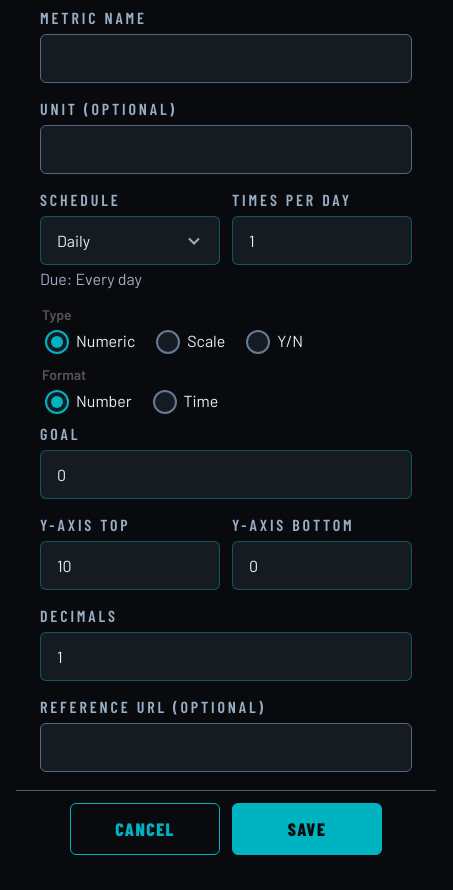
Test: CustomMetricForm — submit shape per top-level type › rejects Scale submit when level values are not unique
In the field labelled "Metric Name": (226, 58) [40,34,412,83], type "Dup"
Click the radio button labelled "Scale": (168, 342) [156,330,180,354]
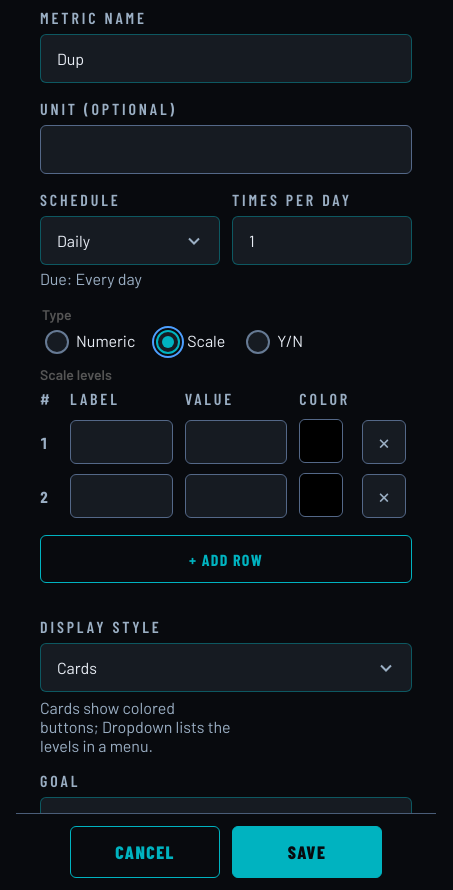
Two seeded rows are exactly right for the dup test.
In the 1st field named "label": (121, 442) [70,420,173,464], type "A"
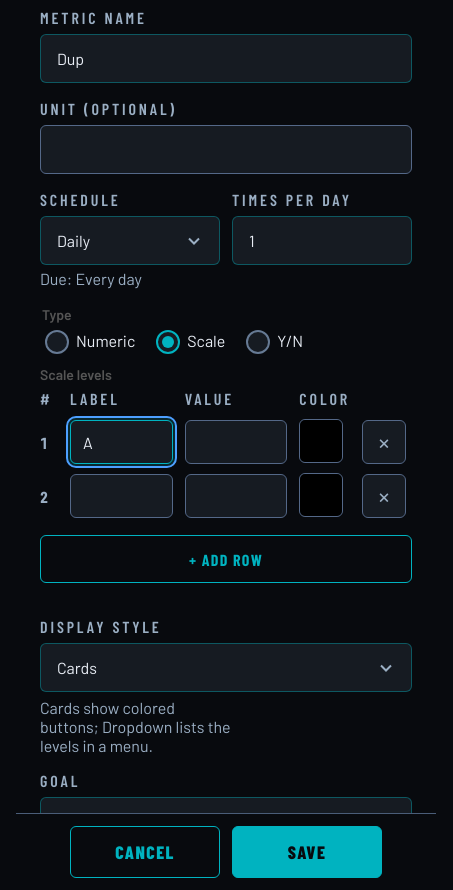
In the 1st number field named "value": (236, 442) [185,420,287,464], type "1"
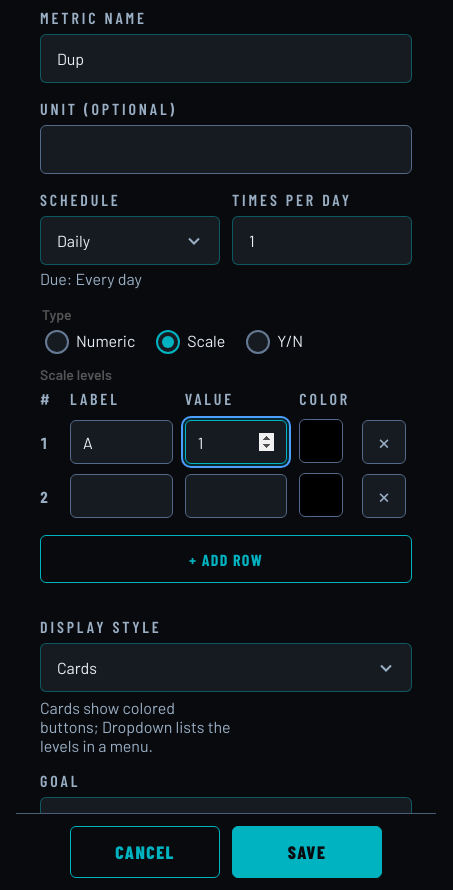
In the 2nd field named "label": (121, 496) [70,474,173,518], type "B"
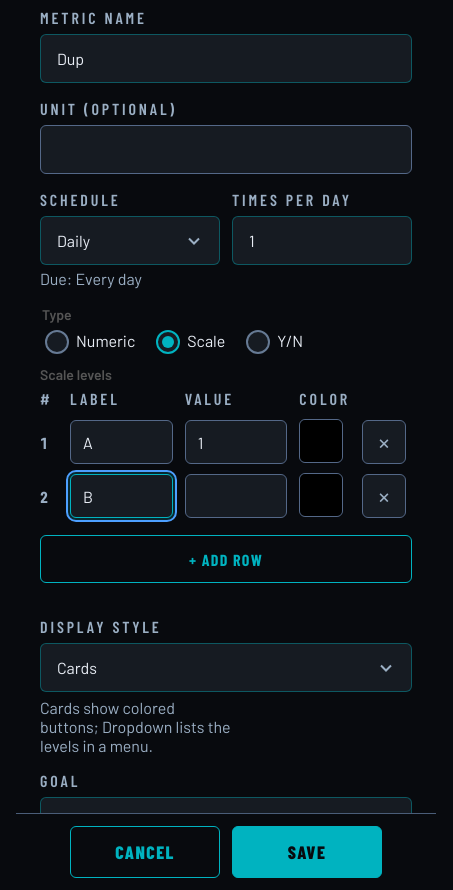
In the 2nd number field named "value": (236, 496) [185,474,287,518], type "1"
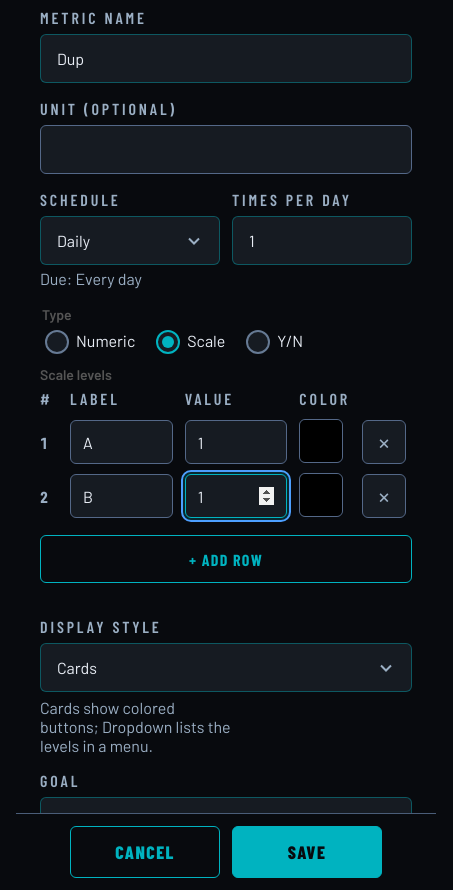
Click the button "Save": (307, 852) [232,826,382,878]
(page scrolled)
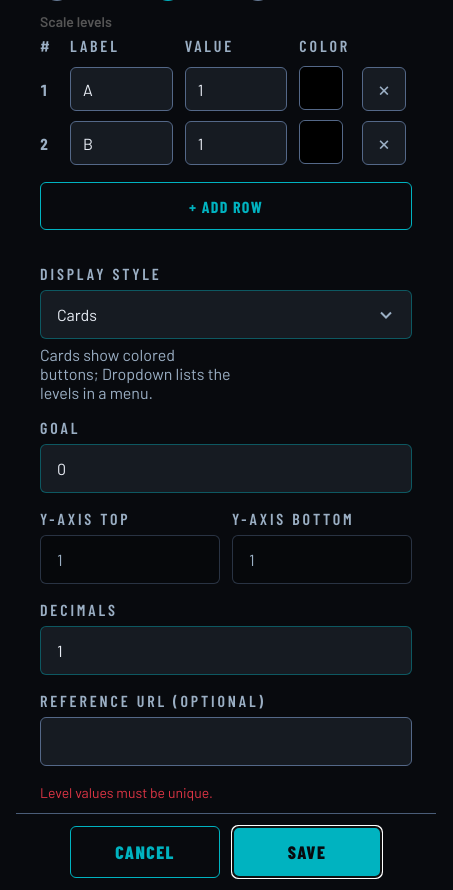
Check: the text "Level values must be unique." is shown, box [40,784,213,801]
